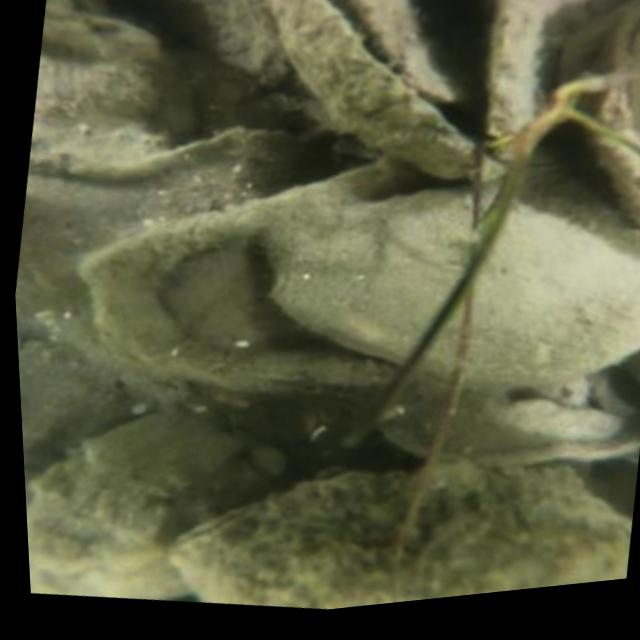Oyster-Closed: (501, 390, 620, 437)
Oyster-Indeterminate: (75, 151, 480, 389), (263, 185, 640, 386), (152, 468, 625, 608), (25, 410, 301, 598), (34, 0, 186, 159), (131, 0, 287, 97), (349, 0, 473, 112)
Oyster-Open: (272, 0, 547, 180)
